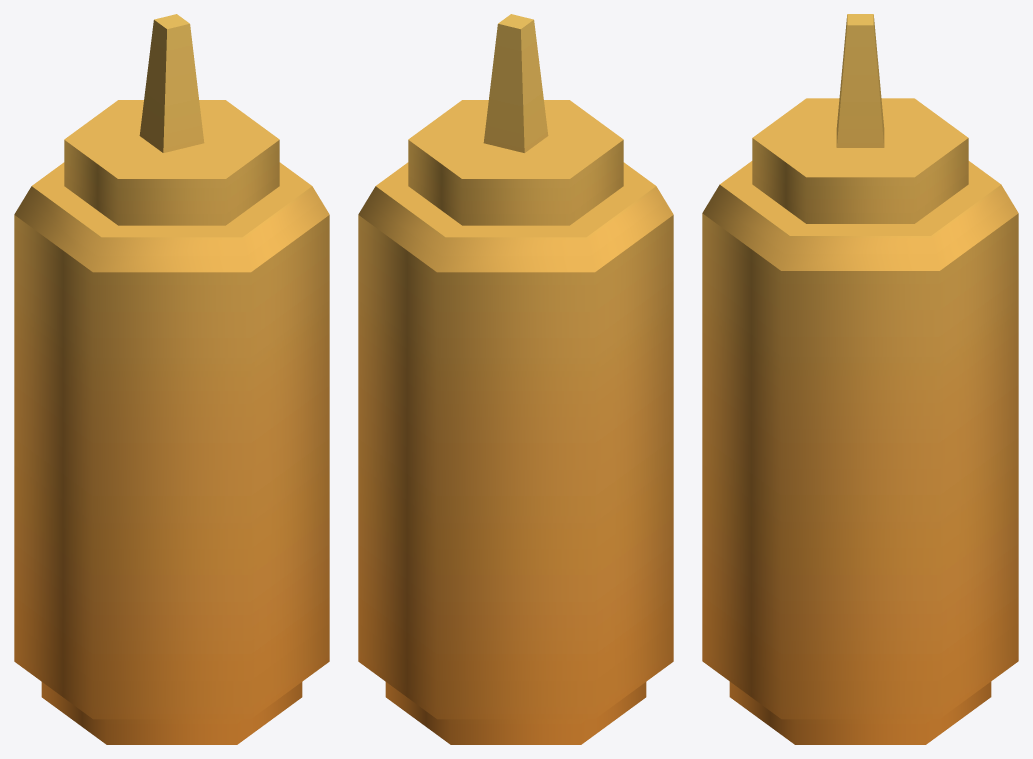
File: senap.glb
The picture shows the model from 3 angles, left to right: view 1: azimuth 30°, elevation 25°; view 2: azimuth 150°, elevation 25°; view 3: azimuth 270°, elevation 25°; orthographic projection.
Parts seen in each view (by area): view 1: bottle-musterd; view 2: bottle-musterd; view 3: bottle-musterd.
Part boxes in pixels (<box>): bottle-musterd: <box>14,14,329,744</box>; bottle-musterd: <box>358,14,673,744</box>; bottle-musterd: <box>702,14,1018,744</box>.
Size of the model in its own units: 0.1441 by 0.3931 by 0.1664.
1 material, 1 textured.
